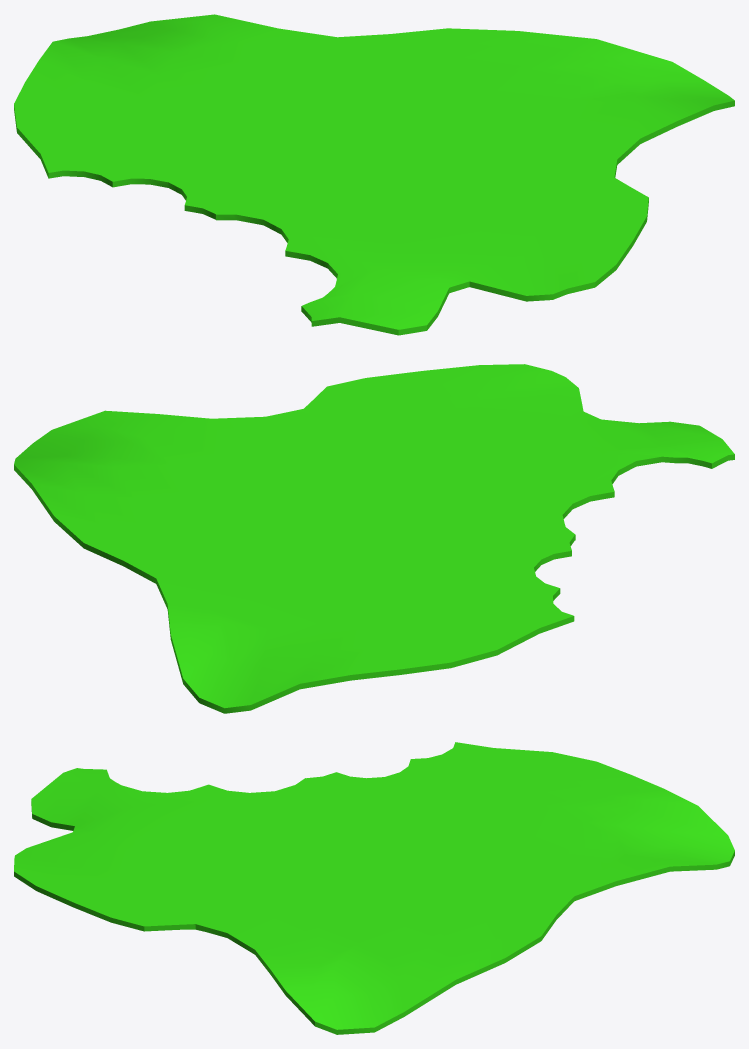
The model's file is salad_2.fbx.
3 renders of one model, top to bottom at view 1: azimuth 30°, elevation 25°; view 2: azimuth 150°, elevation 25°; view 3: azimuth 270°, elevation 25°, orthographic. The views are drawn at different scales.
Visible parts, largest first — view 1: Salad_0.002; view 2: Salad_0.002; view 3: Salad_0.002.
Part boxes in pixels (box(x1,y1,x2,y2)): Salad_0.002: box(14, 14, 734, 335); Salad_0.002: box(14, 364, 734, 713); Salad_0.002: box(14, 742, 734, 1034).
Size of the model in its own units: 264 by 13.1 by 302.
